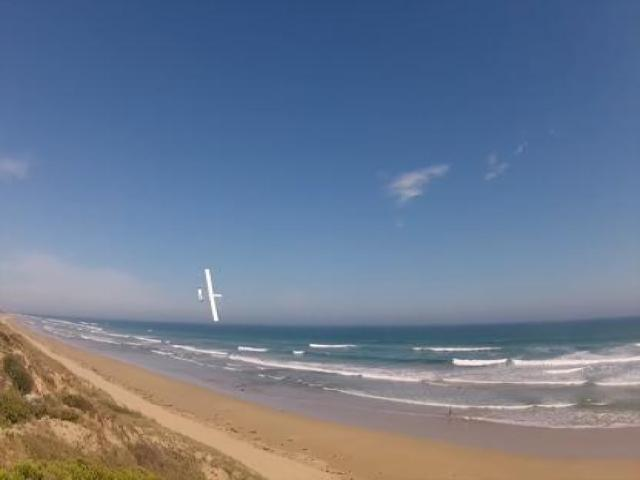uav: (196, 266, 224, 326)
